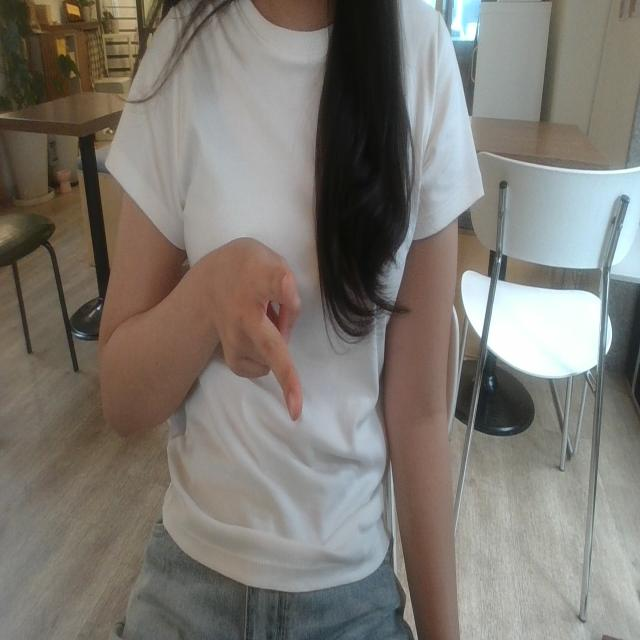yeo: (193, 206, 335, 462)
